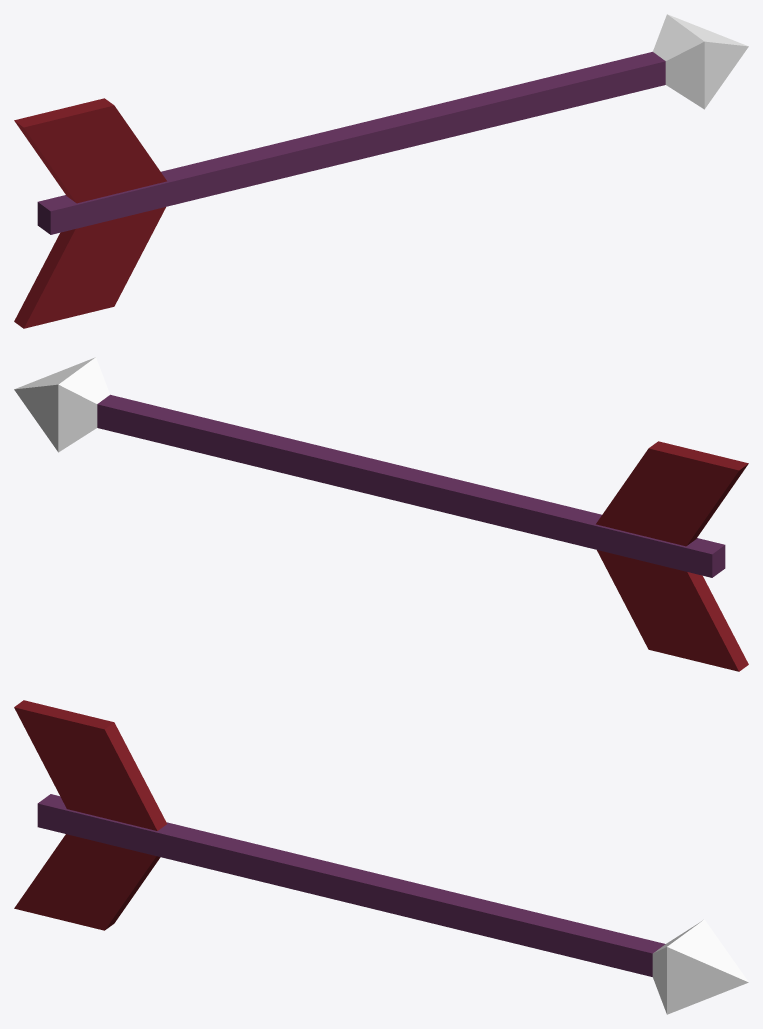
The model's file is RedArrow.fbx.
3 renders of one model, top to bottom at view 1: azimuth 30°, elevation 25°; view 2: azimuth 150°, elevation 25°; view 3: azimuth 330°, elevation 25°, orthographic.
Parts seen in each view (by area): view 1: Cube.010; view 2: Cube.010; view 3: Cube.010.
Boxes of the visible parts, box(x1,y1,x2,y2) form: Cube.010: box(14, 14, 748, 328); Cube.010: box(14, 357, 748, 671); Cube.010: box(14, 700, 748, 1014).
Size of the model in its own units: 64.6 by 17.02 by 5.75.
